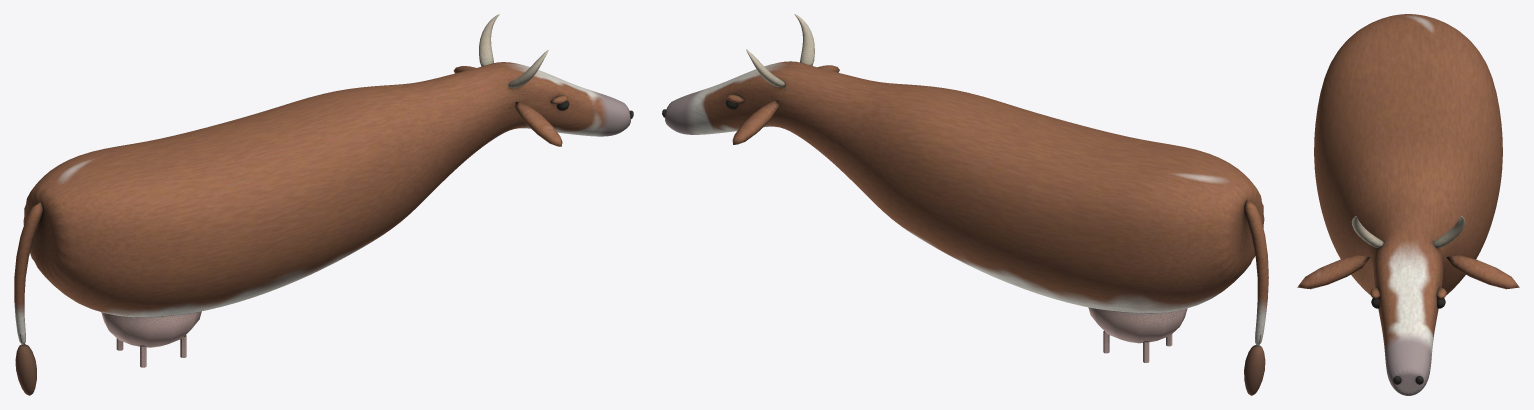
The model's file is cow_body.glb.
3 renders of one model, left to right at view 1: azimuth 30°, elevation 25°; view 2: azimuth 150°, elevation 25°; view 3: azimuth 270°, elevation 25°, orthographic. The views are drawn at different scales.
Parts seen in each view (by area): view 1: cow_body; view 2: cow_body; view 3: cow_body.
Part boxes in pixels (<box>): cow_body: <box>14,14,633,395</box>; cow_body: <box>662,14,1268,395</box>; cow_body: <box>1297,14,1519,395</box>.
Size of the model in its own units: 3.03 by 1.17 by 0.8954.
Materials: 1 (1 with a texture image).
